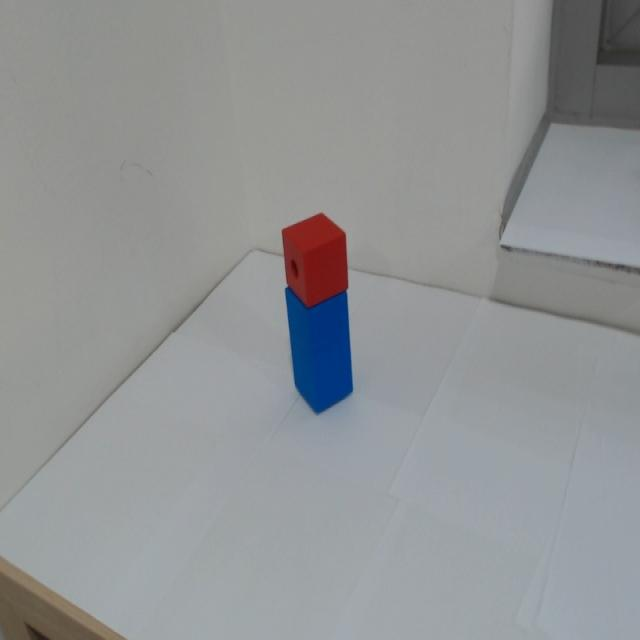cube: (271, 202, 364, 302)
